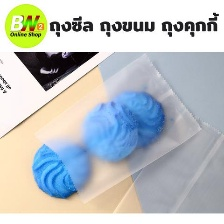snack: (27, 51, 207, 207)
